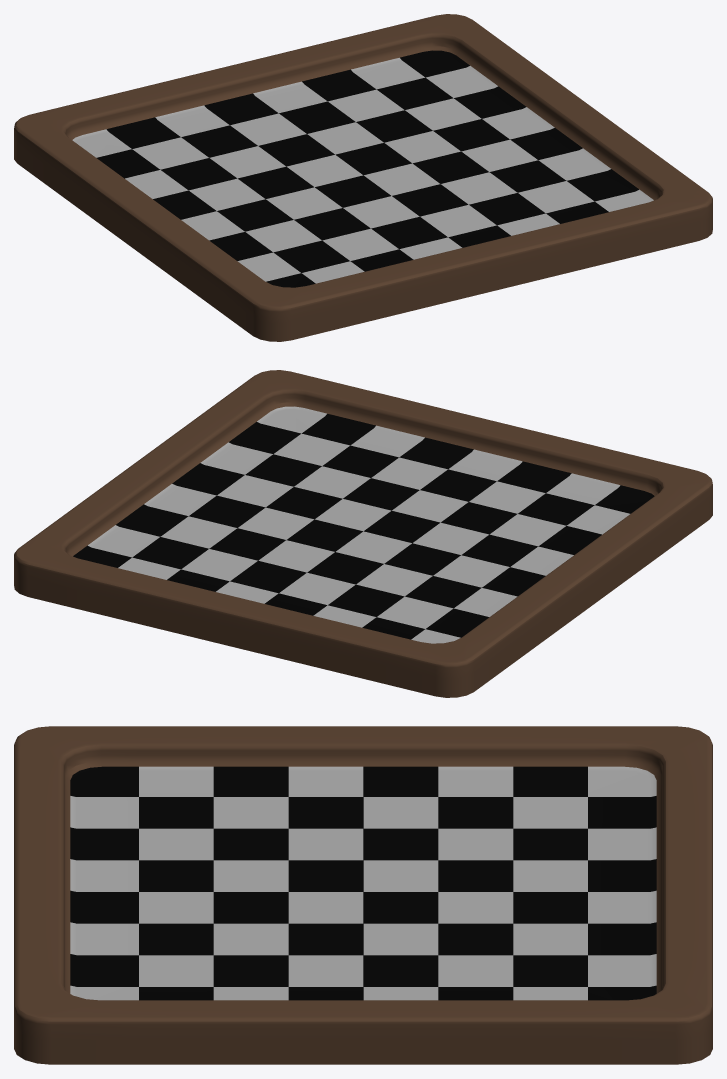
The model's file is Board 1.fbx.
The picture shows the model from 3 angles, top to bottom: view 1: azimuth 30°, elevation 25°; view 2: azimuth 150°, elevation 25°; view 3: azimuth 270°, elevation 25°; orthographic projection. The views are drawn at different scales.
Parts seen in each view (by area): view 1: Board; view 2: Board; view 3: Board.
Boxes of the visible parts, x1,y1,x2,y2 form: Board: (14, 14, 712, 341); Board: (14, 370, 712, 697); Board: (14, 726, 712, 1064).
Size of the model in its own units: 152 by 10.8 by 152.
